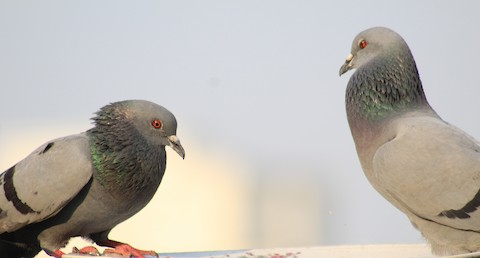pigeon: (332, 17, 477, 255), (2, 88, 190, 256)
